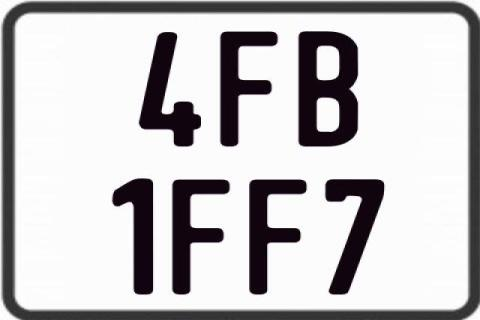0: (138, 31, 204, 146), (322, 180, 383, 296), (109, 177, 156, 293)
B: (300, 32, 362, 152)
F: (172, 178, 236, 296), (247, 179, 311, 295), (219, 29, 278, 145)
